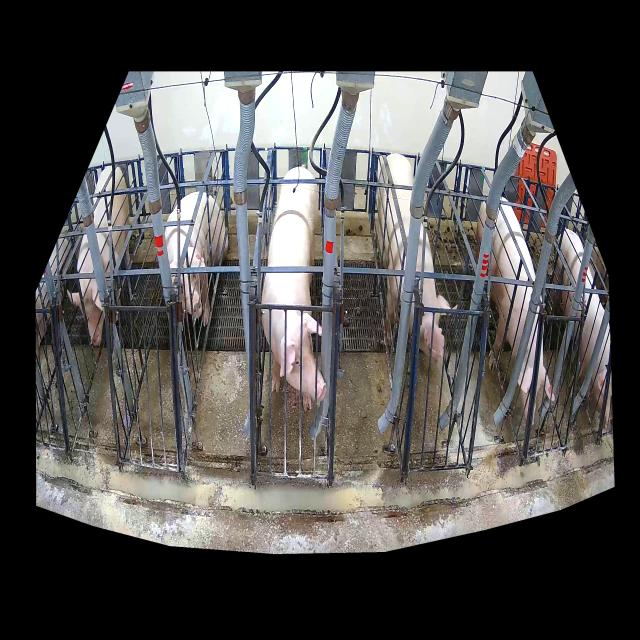pig: (476, 196, 555, 425), (262, 168, 326, 411), (378, 154, 451, 360), (552, 230, 611, 429), (72, 166, 130, 346), (165, 190, 228, 330)
